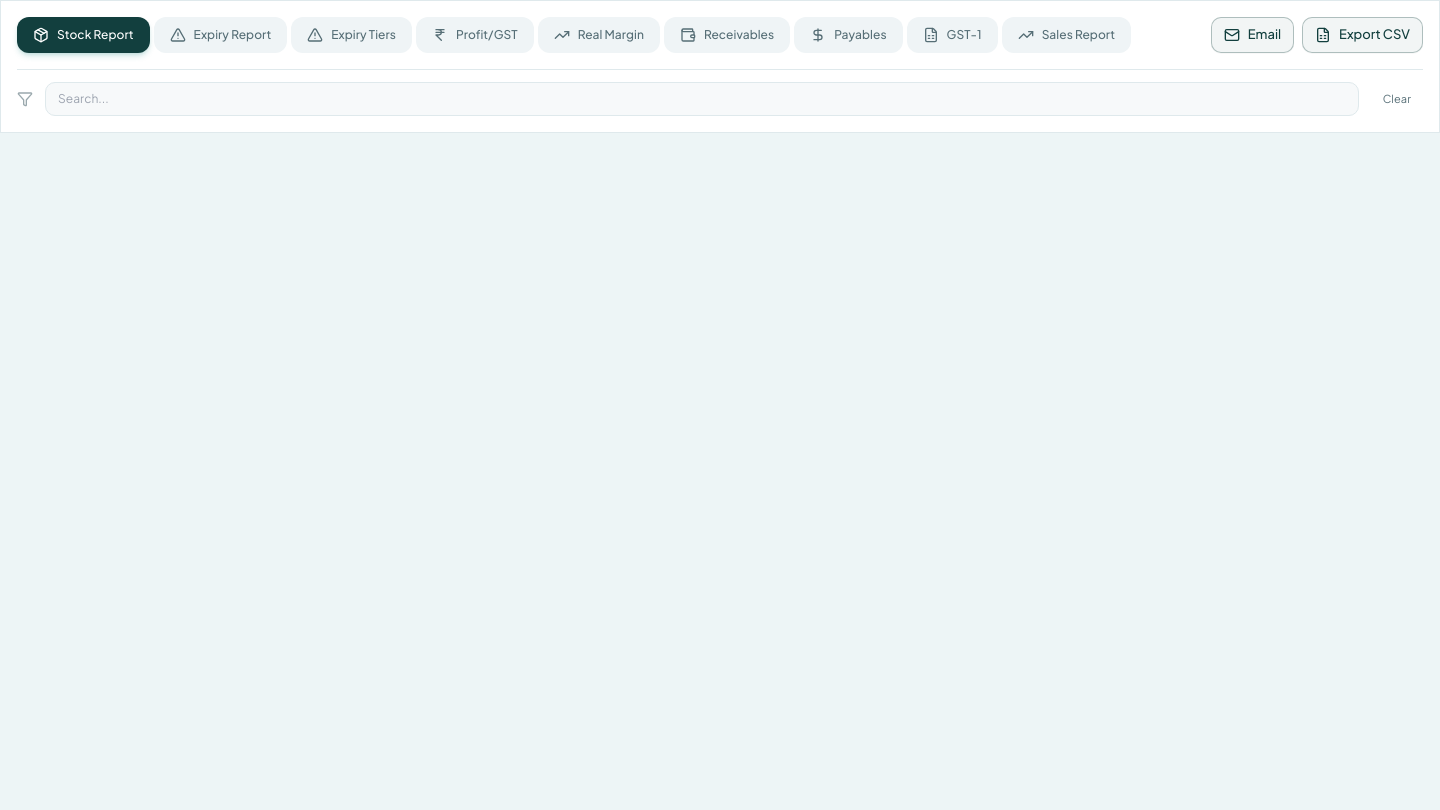
Reports Component › Sales Report Tab › should show total sales count in KPI cards
The width and height of the screenshot is (1440, 810).
Step 1. Click the button "Sales Report" → {"x": 1066, "y": 35}, box [1002,17,1131,53]
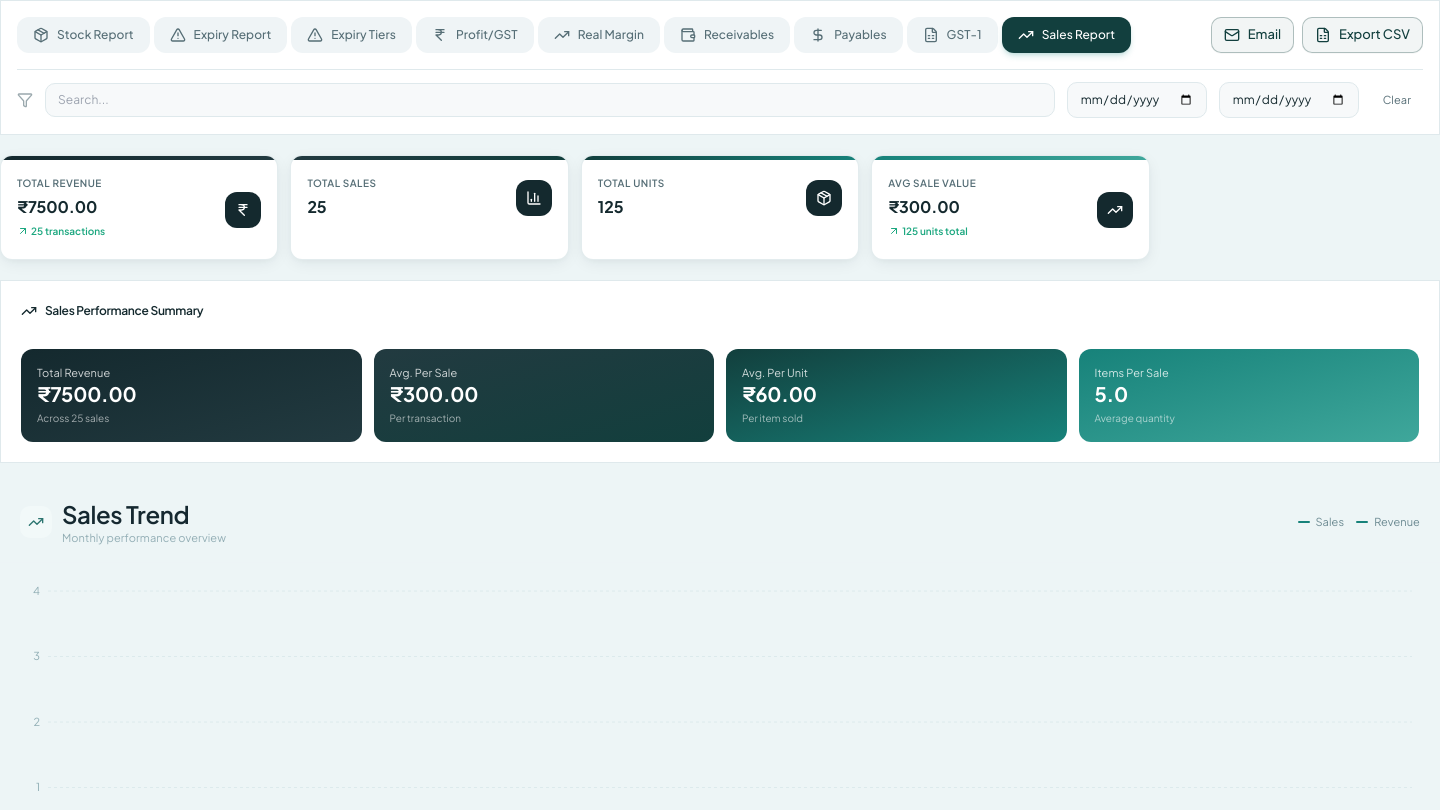
Expected: the text "25" is shown, [307,196,327,217]
